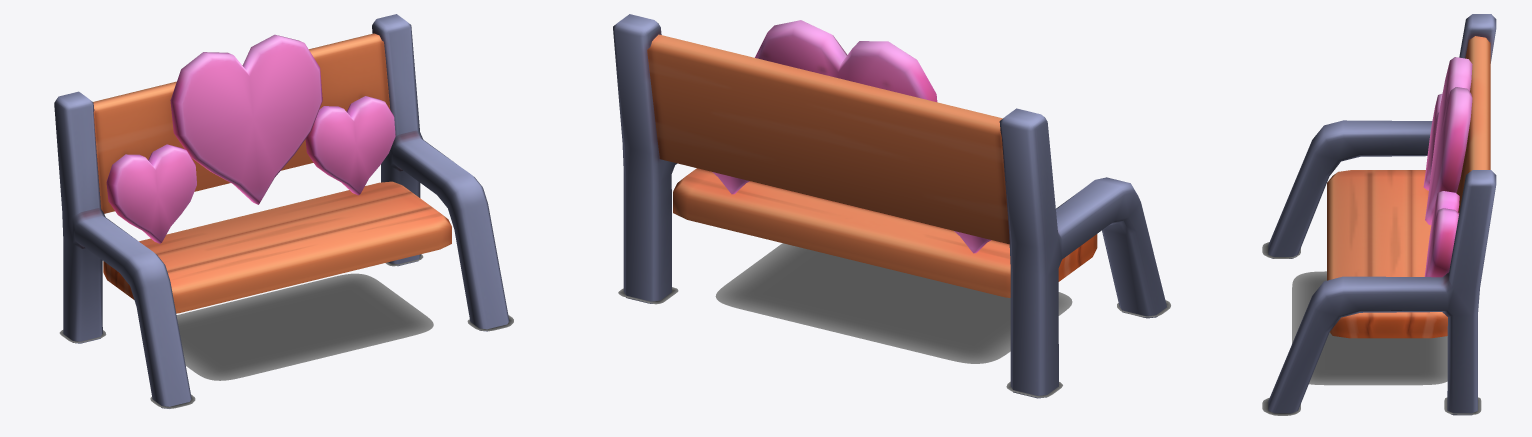
Rendered from Mesh_Item_01_LoveBench.FBX.
The picture shows the model from 3 angles, left to right: view 1: azimuth 30°, elevation 25°; view 2: azimuth 150°, elevation 25°; view 3: azimuth 270°, elevation 25°; orthographic projection. The views are drawn at different scales.
Visible parts, largest first — view 1: Mesh_Item_01_LoveBench, Mesh_Shadow_01_LoveBench; view 2: Mesh_Item_01_LoveBench, Mesh_Shadow_01_LoveBench; view 3: Mesh_Item_01_LoveBench, Mesh_Shadow_01_LoveBench.
Boxes of the visible parts, x1,y1,x2,y2 form: Mesh_Item_01_LoveBench: (54,14,509,408); Mesh_Shadow_01_LoveBench: (59,254,513,408); Mesh_Item_01_LoveBench: (613,14,1166,398); Mesh_Shadow_01_LoveBench: (618,243,1170,397); Mesh_Item_01_LoveBench: (1268,14,1496,415); Mesh_Shadow_01_LoveBench: (1262,242,1481,415).
Size of the model in its own units: 2.01 by 1.23 by 1.19.
2 materials, 2 textured.
